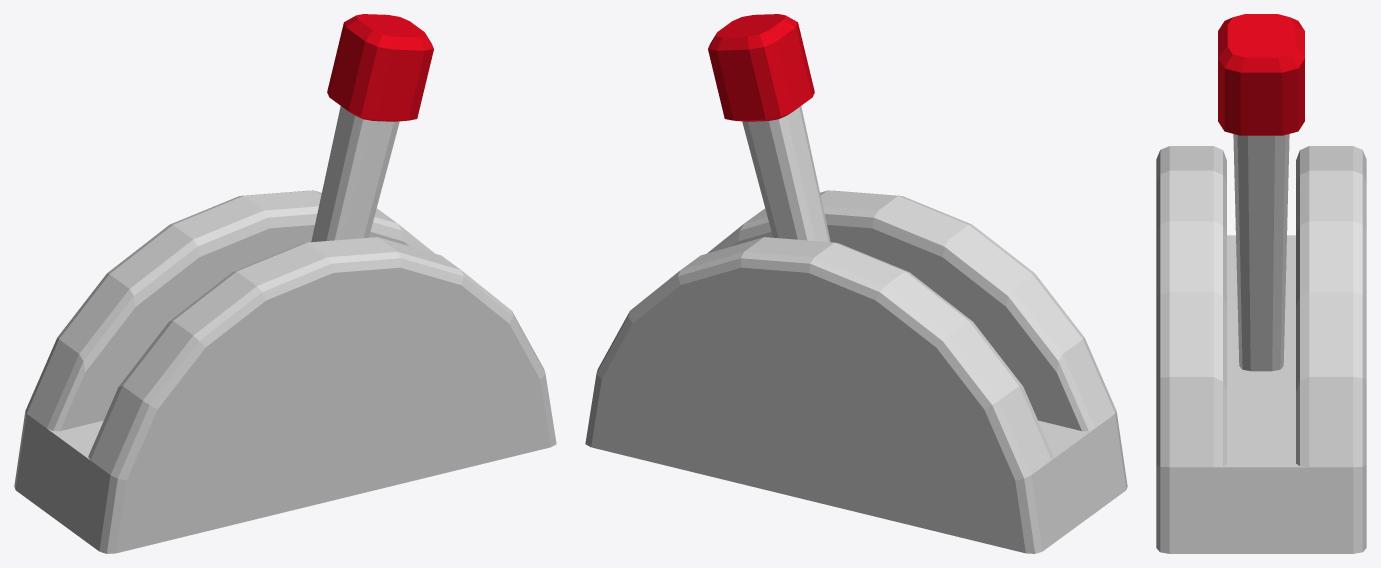
The model's file is lever.fbx.
3 views of the same model, side by side, from view 1: azimuth 30°, elevation 25°; view 2: azimuth 150°, elevation 25°; view 3: azimuth 270°, elevation 25° (orthographic). The views are drawn at different scales.
Visible parts, largest first — view 1: base, handle; view 2: base, handle; view 3: base, handle.
Boxes of the visible parts, x1,y1,x2,y2 form: base: (14,190,556,553); handle: (311,14,433,242); base: (585,190,1127,553); handle: (708,14,830,242); base: (1156,146,1366,553); handle: (1218,14,1304,371).
Size of the model in its own units: 127 by 113 by 46.2.
